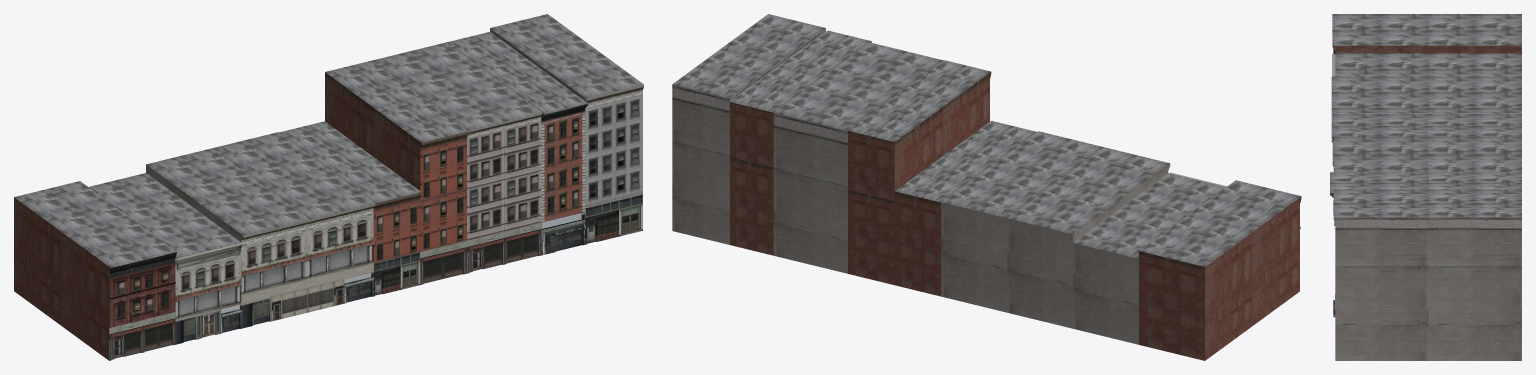
The model's file is flatcomplex.glb.
The picture shows the model from 3 angles, left to right: view 1: azimuth 30°, elevation 25°; view 2: azimuth 150°, elevation 25°; view 3: azimuth 270°, elevation 25°; orthographic projection. The views are drawn at different scales.
Visible parts, largest first — view 1: flatcomplex; view 2: flatcomplex; view 3: flatcomplex.
Part boxes in pixels (left/top/right/bottom): flatcomplex: left=14, top=14, right=643, bottom=360; flatcomplex: left=672, top=14, right=1301, bottom=360; flatcomplex: left=1330, top=14, right=1521, bottom=360.
Bounding box in the file's own units: 64.66 × 17.02 × 20.56.
Materials: 3 (3 with a texture image).
